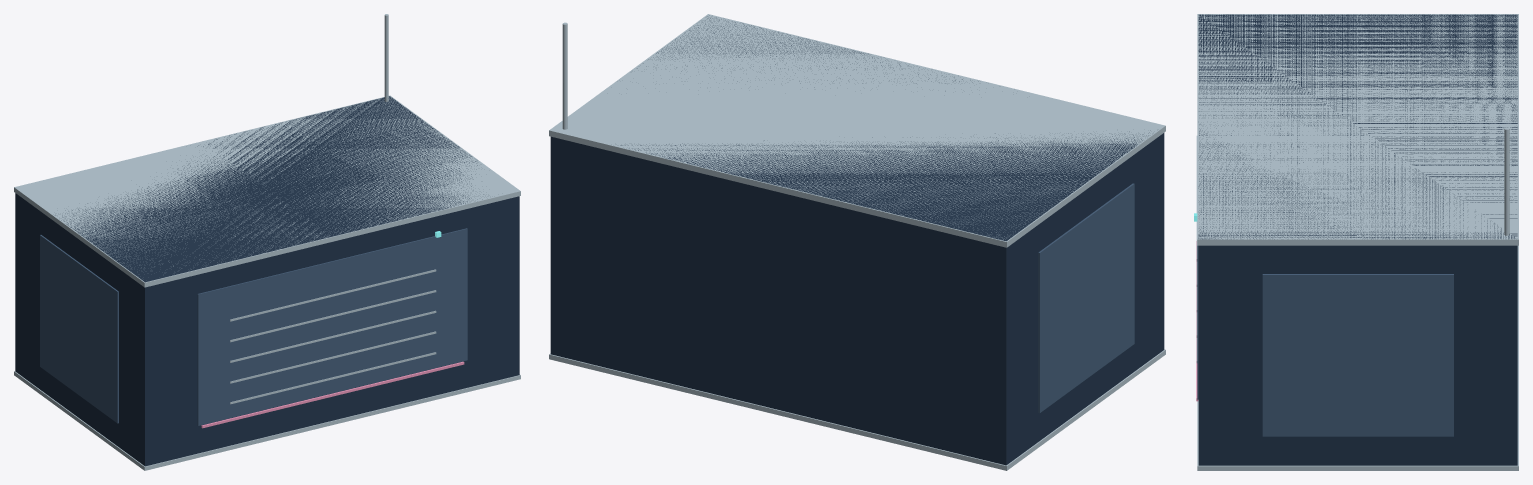
File: cover-relay-cp03.glb
The picture shows the model from 3 angles, left to right: view 1: azimuth 30°, elevation 25°; view 2: azimuth 150°, elevation 25°; view 3: azimuth 270°, elevation 25°; orthographic projection. The views are drawn at different scales.
Visible parts, largest first — view 1: cover-relay-merged (×3), Body; view 2: Body, cover-relay-merged (×2); view 3: cover-relay-merged (×2), Body.
Part boxes in pixels (left/top/right/bottom): cover-relay-merged (×3): left=14, top=14, right=520, bottom=470; Body: left=15, top=96, right=519, bottom=466; Body: left=550, top=15, right=1164, bottom=465; cover-relay-merged (×2): left=549, top=14, right=1165, bottom=470; cover-relay-merged (×2): left=1196, top=14, right=1518, bottom=470; Body: left=1198, top=14, right=1517, bottom=465.
Bounding box in the file's own units: 5.04 × 3.5 × 3.06.
